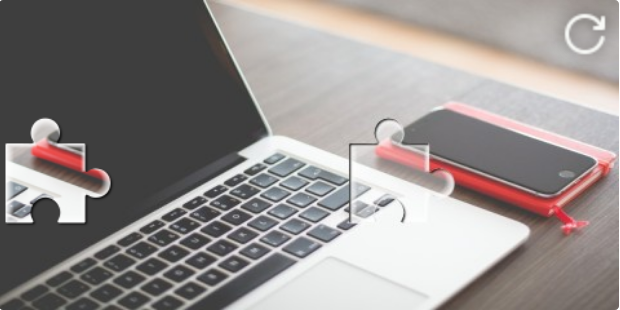target: (349, 119, 454, 224)
